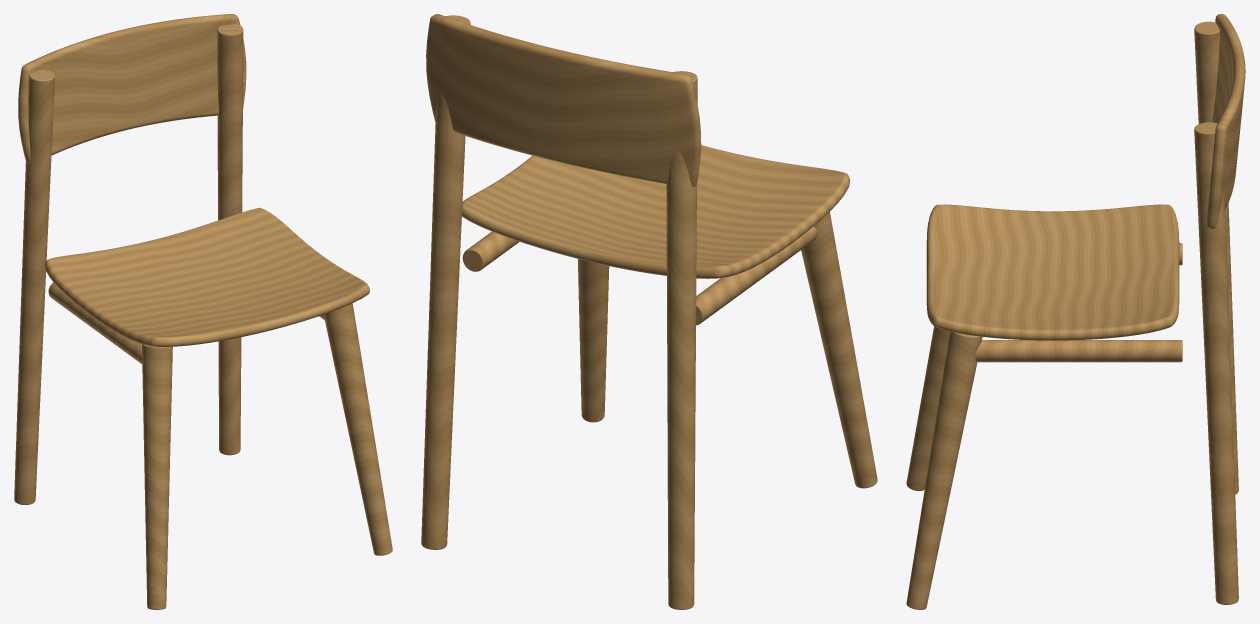
File: chair.glb
3 renders of one model, left to right at view 1: azimuth 30°, elevation 25°; view 2: azimuth 150°, elevation 25°; view 3: azimuth 270°, elevation 25°, orthographic. The views are drawn at different scales.
Visible parts, largest first — view 1: Sculpted_plywood_seat, Curved_veneer_backrest, Continuous_rear_leg, Continuous_rear_leg.001, Front_tapered_leg, Front_tapered_leg.001, Seat_side_stretcher; view 2: Sculpted_plywood_seat, Curved_veneer_backrest, Continuous_rear_leg, Continuous_rear_leg.001, Front_tapered_leg, Front_tapered_leg.001, Seat_side_stretcher, Seat_side_stretcher.001; view 3: Sculpted_plywood_seat, Continuous_rear_leg.001, Front_tapered_leg.001, Curved_veneer_backrest, Seat_side_stretcher.001, Continuous_rear_leg, Front_tapered_leg.
Part boxes in pixels (x1,y1,x2,y2): Sculpted_plywood_seat: (45,207,369,346); Curved_veneer_backrest: (18,14,246,163); Continuous_rear_leg: (14,69,54,504); Continuous_rear_leg.001: (217,24,243,455); Front_tapered_leg: (142,344,172,609); Front_tapered_leg.001: (324,303,392,555); Seat_side_stretcher: (48,282,142,364); Sculpted_plywood_seat: (462,145,850,278); Curved_veneer_backrest: (426,14,701,186); Continuous_rear_leg: (666,71,697,609); Continuous_rear_leg.001: (421,15,470,549); Front_tapered_leg: (801,212,877,488); Front_tapered_leg.001: (578,259,609,422); Seat_side_stretcher: (696,226,817,325); Seat_side_stretcher.001: (462,231,519,271); Sculpted_plywood_seat: (926,204,1179,340); Continuous_rear_leg.001: (1194,122,1238,604); Front_tapered_leg.001: (906,331,982,609); Curved_veneer_backrest: (1207,14,1245,228); Seat_side_stretcher.001: (975,340,1182,362); Continuous_rear_leg: (1194,21,1238,494); Front_tapered_leg: (906,326,949,491).
Size of the model in its own units: 0.46 by 0.8 by 0.51.
1 material, 1 textured.
